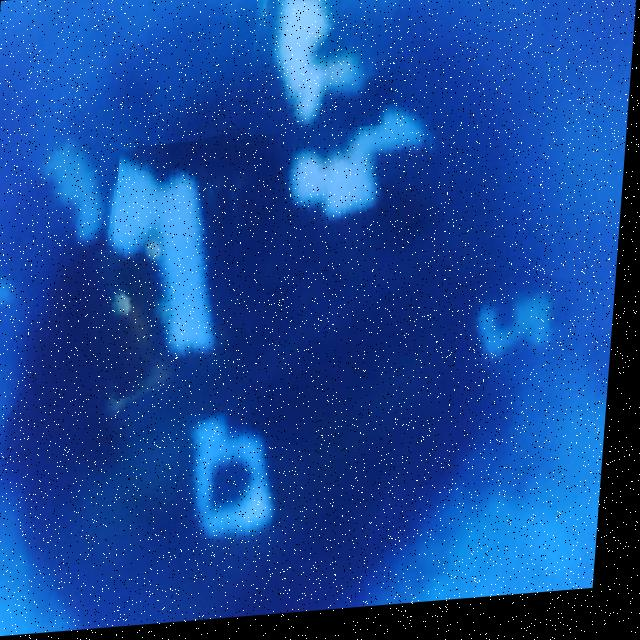litter: (88, 140, 258, 399), (276, 107, 447, 271), (249, 0, 395, 139), (179, 412, 292, 561), (459, 275, 580, 399), (29, 121, 123, 257), (0, 258, 25, 331)
